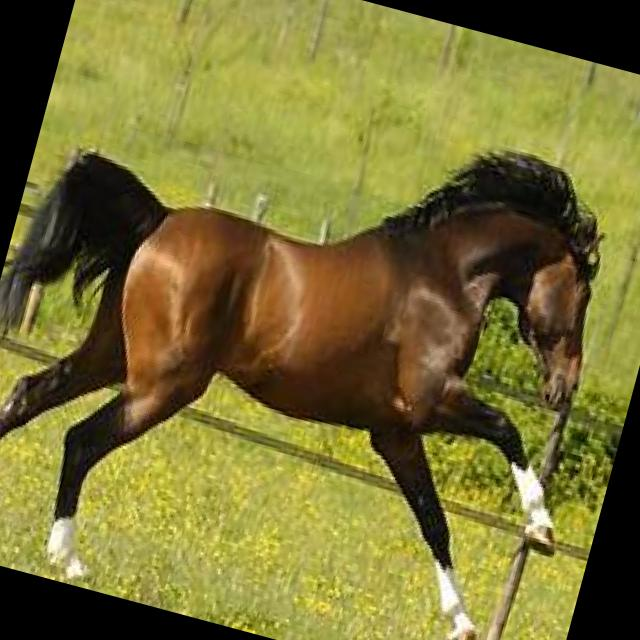animal: (0, 27, 640, 640)
